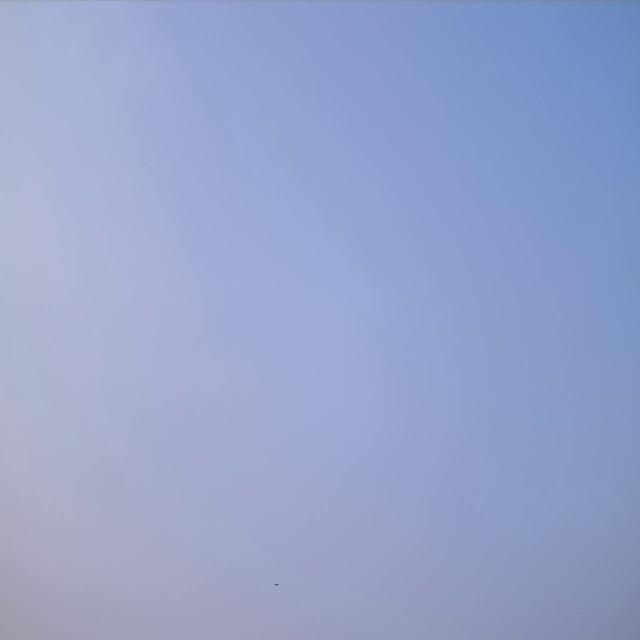UAV: (274, 582, 278, 586)
